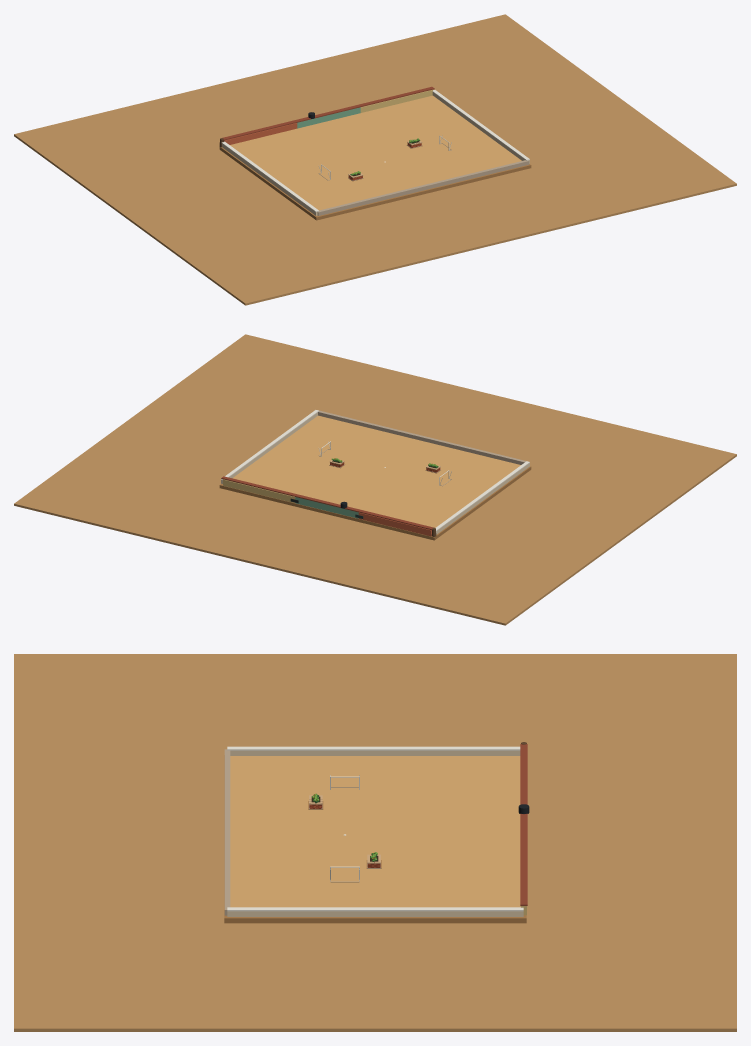
The model's file is pittu-courtyard-v2.glb.
3 views of the same model, one above another, from view 1: azimuth 30°, elevation 25°; view 2: azimuth 150°, elevation 25°; view 3: azimuth 270°, elevation 25° (orthographic). The views are drawn at different scales.
Visible parts, largest first — view 1: PittuCourtyardV2; view 2: PittuCourtyardV2; view 3: PittuCourtyardV2.
Part boxes in pixels (x1,y1,x2,y2): PittuCourtyardV2: [14, 14, 736, 305]; PittuCourtyardV2: [14, 334, 736, 625]; PittuCourtyardV2: [14, 654, 736, 1031].
Size of the model in its own units: 76 by 2.45 by 62.
